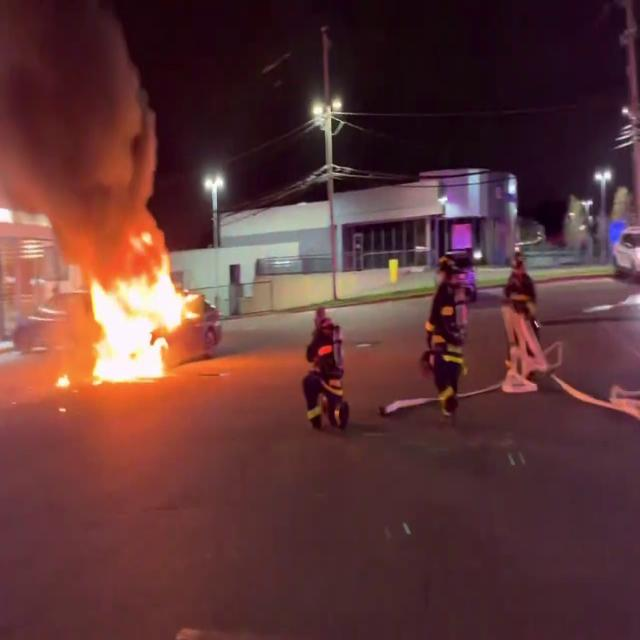Fire: (75, 232, 194, 384)
Smoke: (0, 0, 164, 247)
